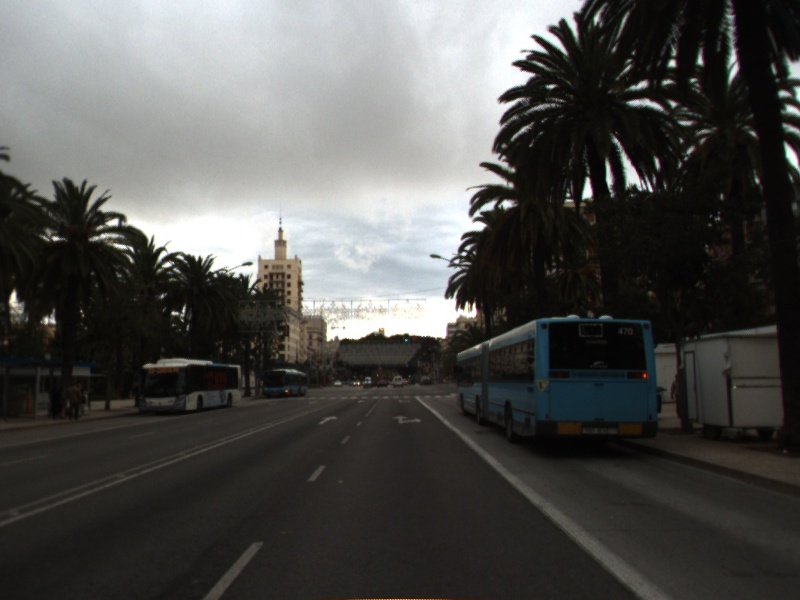STRAIGHT: (317, 414, 340, 426)
STRAIGHT_RIGHT: (390, 413, 424, 425)
